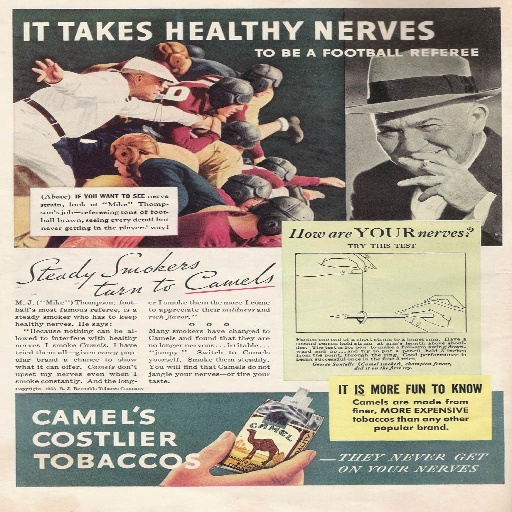hand: (155, 430, 315, 488), (394, 150, 487, 216), (394, 293, 466, 332), (293, 250, 377, 277), (32, 59, 65, 84), (317, 175, 348, 188)
